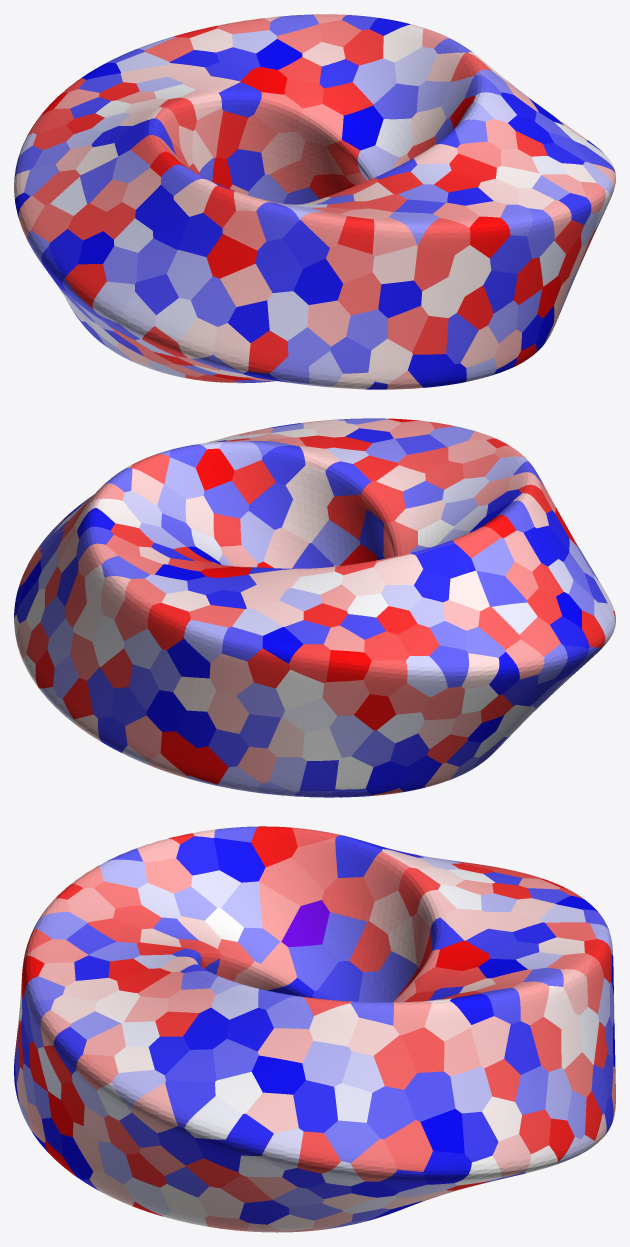
File: Ours_600_mobius1_Iter2_RVD.obj
The picture shows the model from 3 angles, top to bottom: view 1: azimuth 30°, elevation 25°; view 2: azimuth 150°, elevation 25°; view 3: azimuth 270°, elevation 25°; orthographic projection. The views are drawn at different scales.
Parts seen in each view (by area): view 1: 3D_Object; view 2: 3D_Object; view 3: 3D_Object.
Part boxes in pixels (x1,y1,x2,y2): 3D_Object: [14, 14, 615, 389]; 3D_Object: [14, 418, 615, 797]; 3D_Object: [14, 826, 615, 1232].
Bounding box in the file's own units: 6.8 × 2.63 × 6.26.
1 material, 1 textured.
